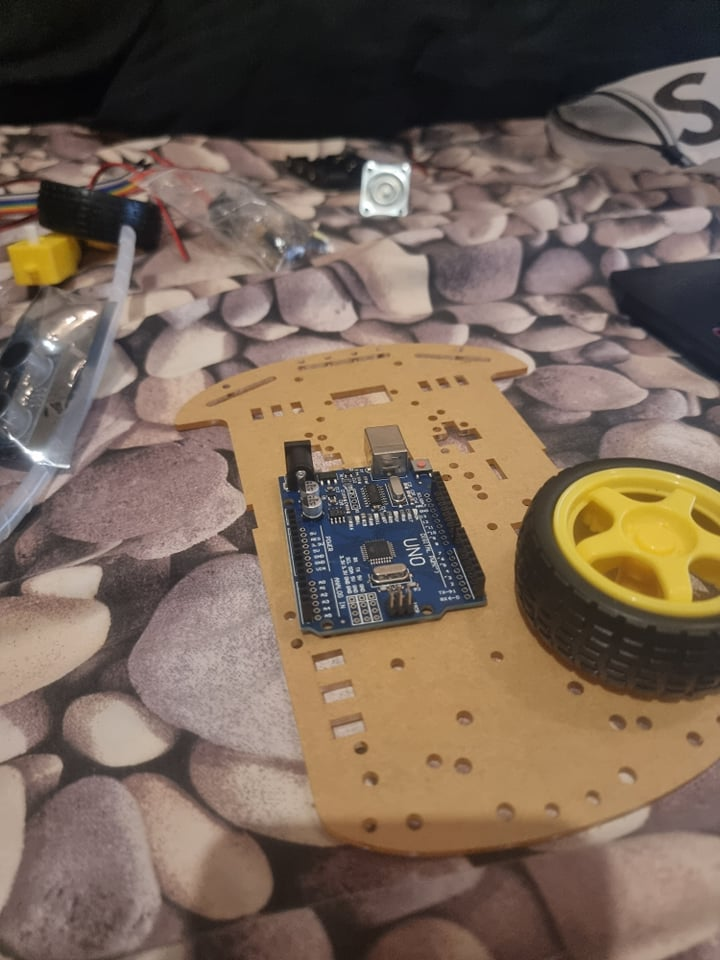BATTERY BOX: (287, 143, 367, 192)
UNO R3: (279, 422, 493, 640)
